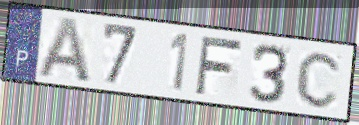1: (168, 33, 190, 95)
3: (248, 42, 292, 105)
7: (101, 20, 140, 87)
A: (35, 15, 93, 85)
C: (294, 48, 345, 110)
F: (192, 33, 245, 96)
